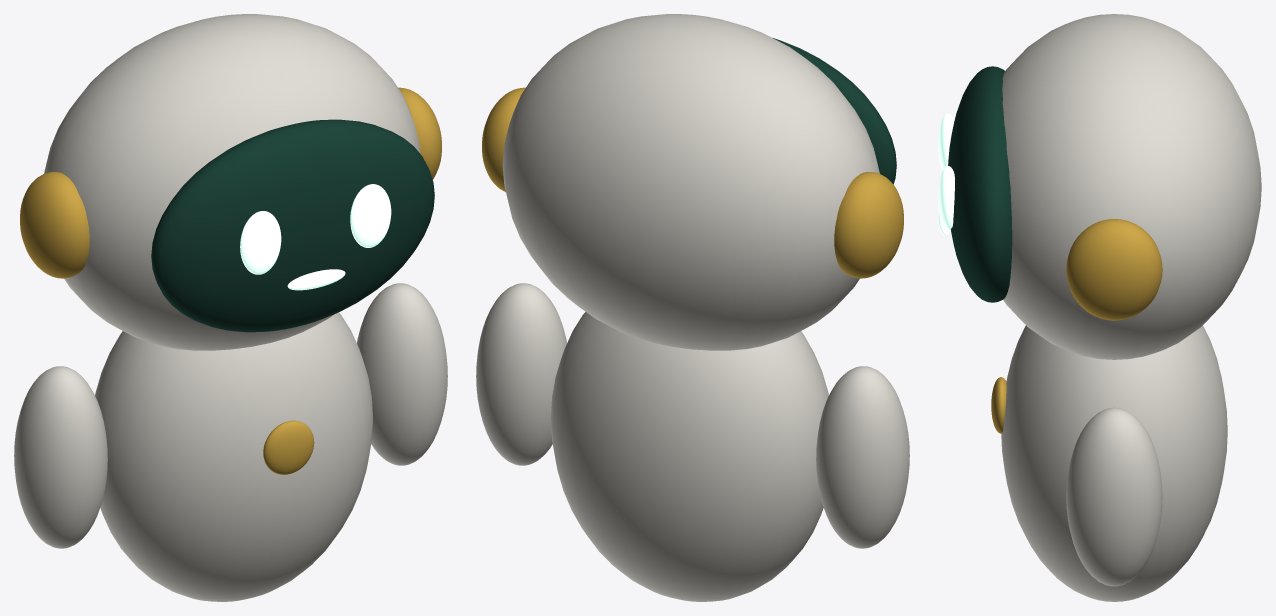
Rendered from mira.glb.
3 views of the same model, side by side, from view 1: azimuth 30°, elevation 25°; view 2: azimuth 150°, elevation 25°; view 3: azimuth 270°, elevation 25° (orthographic).
Visible parts, largest first — view 1: Body, Shell, Face, HandLeft, HandRight, EarLeft, Heart, EyeLeft, EyeRight, EarRight, Mouth; view 2: Shell, Body, HandLeft, HandRight, EarLeft, Face, EarRight; view 3: Shell, Body, HandRight, Face, EarRight, EyeRight, Heart, EyeLeft.
Boxes of the visible parts, left/top/right/bottom form: Body: left=95, top=312, right=373, bottom=601; Shell: left=44, top=14, right=420, bottom=350; Face: left=151, top=119, right=434, bottom=332; HandLeft: left=14, top=366, right=107, bottom=548; HandRight: left=357, top=283, right=447, bottom=465; EarLeft: left=20, top=172, right=89, bottom=278; Heart: left=263, top=420, right=314, bottom=474; EyeLeft: left=240, top=211, right=281, bottom=274; EyeRight: left=350, top=184, right=391, bottom=247; EarRight: left=398, top=87, right=441, bottom=179; Mouth: left=287, top=269, right=345, bottom=290; Shell: left=502, top=14, right=879, bottom=350; Body: left=550, top=312, right=828, bottom=601; HandLeft: left=816, top=366, right=909, bottom=548; HandRight: left=476, top=283, right=566, bottom=465; EarLeft: left=834, top=172, right=903, bottom=278; Face: left=773, top=38, right=896, bottom=184; EarRight: left=482, top=87, right=525, bottom=192; Shell: left=1002, top=14, right=1261, bottom=359; Body: left=1001, top=325, right=1227, bottom=601; HandRight: left=1066, top=407, right=1162, bottom=586; Face: left=948, top=66, right=1012, bottom=302; EarRight: left=1066, top=219, right=1162, bottom=320; EyeRight: left=938, top=166, right=954, bottom=230; Heart: left=991, top=377, right=1006, bottom=433; EyeLeft: left=938, top=113, right=954, bottom=171.
Bounding box in the file's own units: 1.68 × 2.16 × 1.14.
